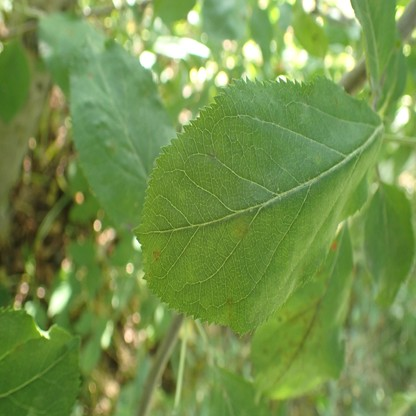scab: (263, 293, 325, 386), (233, 216, 251, 239), (105, 140, 116, 154), (152, 248, 162, 262), (208, 150, 216, 161), (315, 150, 321, 164), (325, 277, 330, 289), (226, 296, 232, 305)
